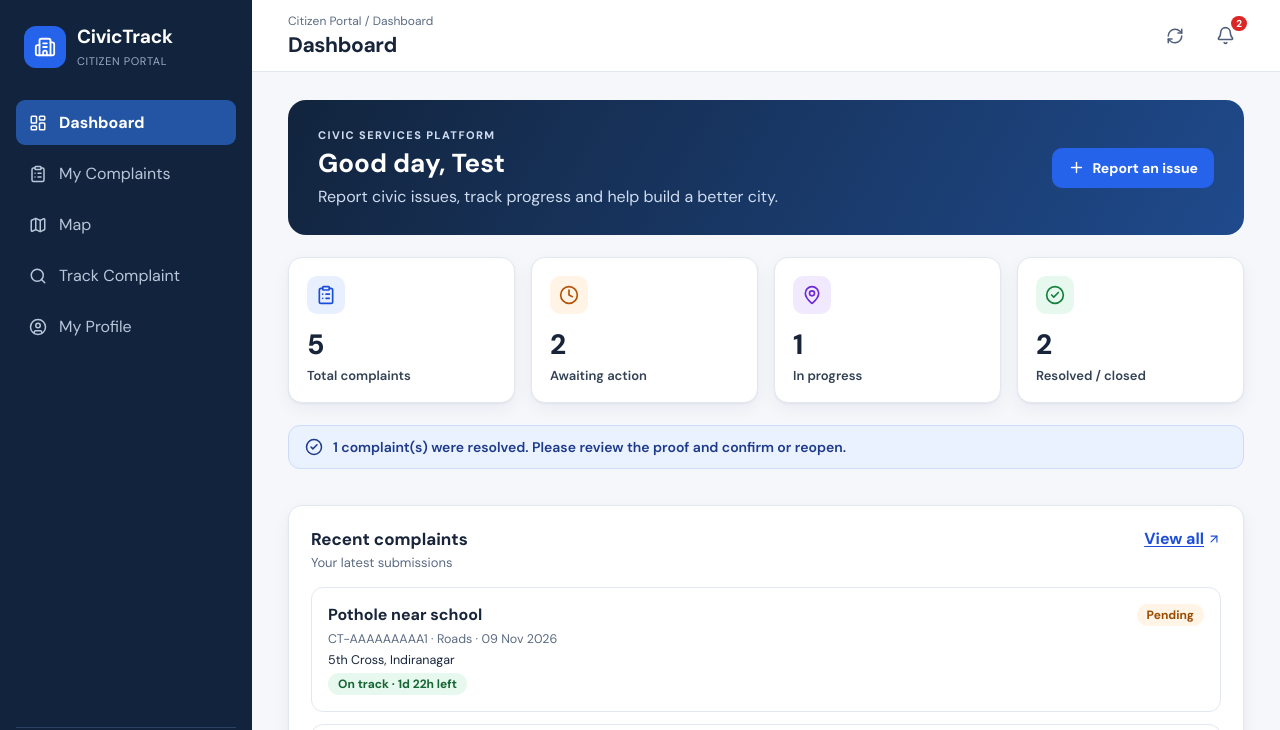
Test case: citizen intelligence and feedback › shows server notifications in the notification centre
The image size is (1280, 730).
What coordinates should you click on to do the following:
click the button named "notifications (2)"
I would click on:
 (1225, 36)
Its box is [1206,16,1244,54].
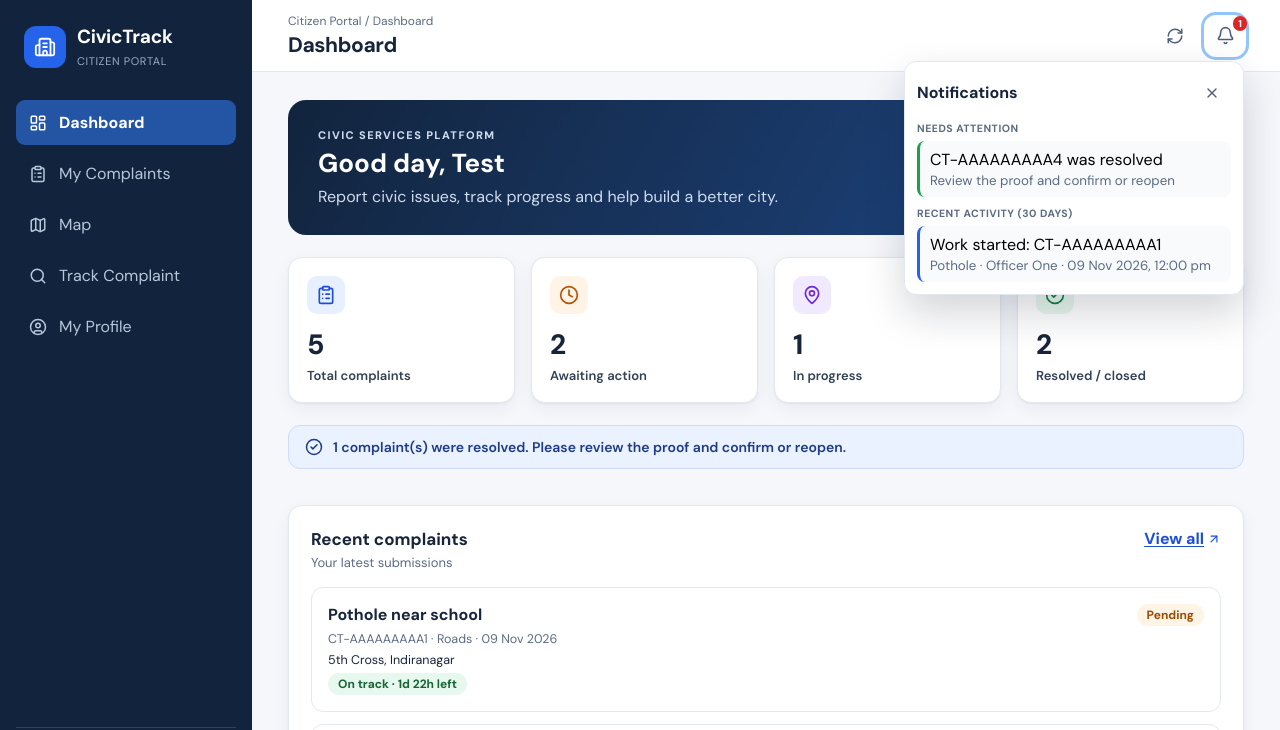
Result: the dialog "Notifications" shows "work started: CT-AAAAAAAAA1" at [904,60,1244,294]
